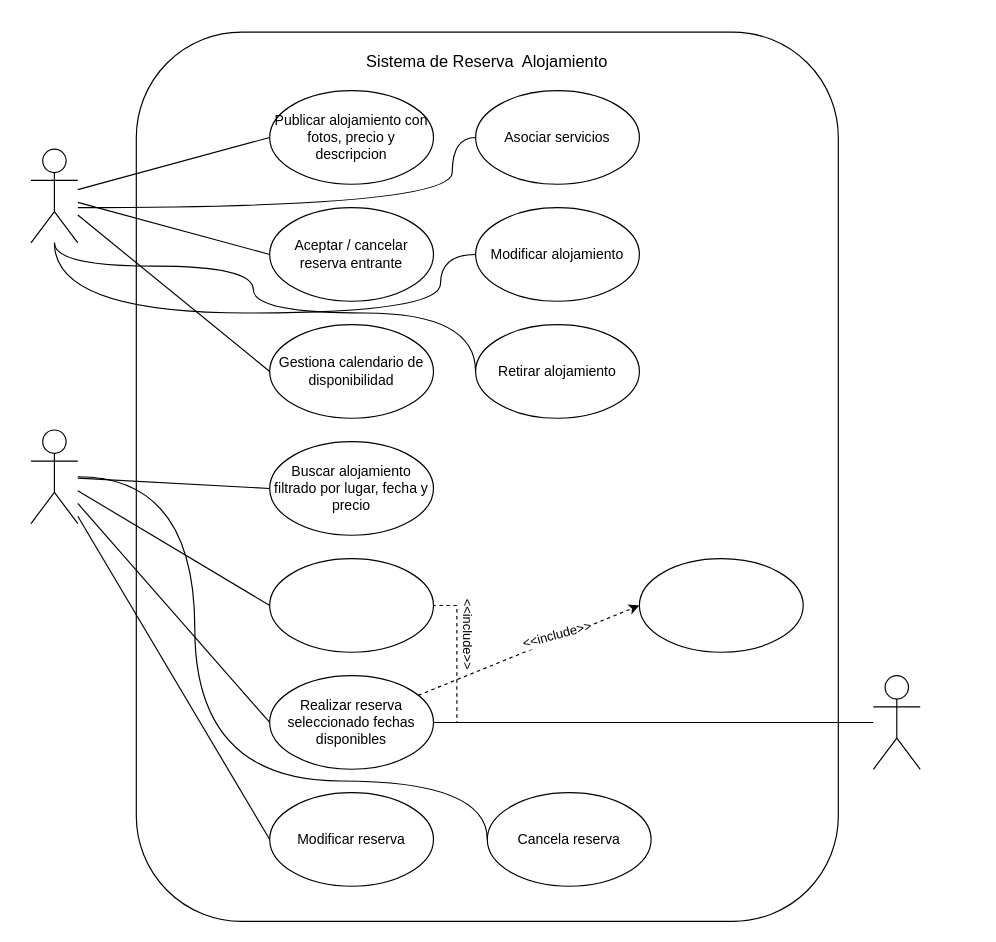
The diagram is 996 pixels wide and 942 high, and some of its shapes have lost their labels. Here are the shapes that lost their labels. From the top down, the centre of each, then its label:
At (x=54, y=195): "Propietario".
At (x=54, y=476): "Huesped".
At (x=351, y=605): "Consultar disponibilidad".
At (x=720, y=605): "Validar reserva".
At (x=896, y=722): "Servicio de notificaciones".
